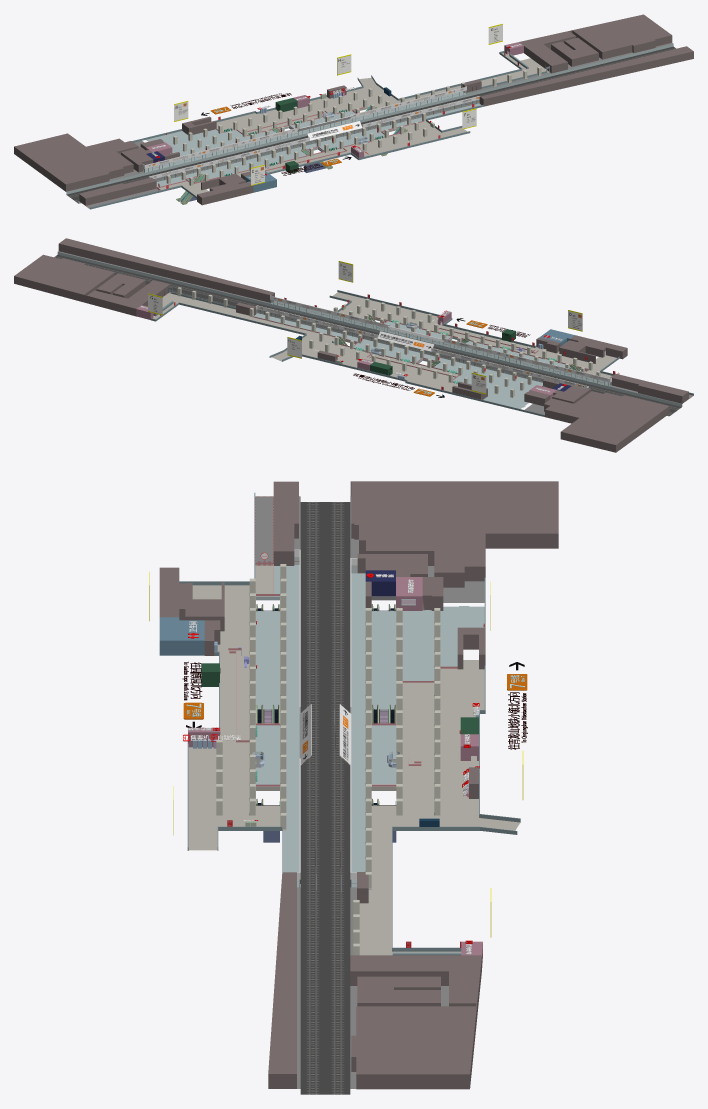
Rendered from psop-whgj-syl-b1.6faba97.glb.
3 renders of one model, top to bottom at view 1: azimuth 30°, elevation 25°; view 2: azimuth 150°, elevation 25°; view 3: azimuth 270°, elevation 25°, orthographic. The views are drawn at different scales.
Parts seen in each view (by area): view 1: Object092, road-b1-1, road-b1-2, zhuzi107, Object126, Box519, Object130, Object188, Object127, A出口001, road-b1-3, Object133 (+3 smaller); view 2: Object092, road-b1-1, road-b1-2, zhuzi107, Object126, Object130, Box519, Object188, Object127, A出口001, Object133, road-b1-3 (+1 smaller); view 3: Object092, Object126, road-b1-1, road-b1-2, zhuzi107, road-b1-3, Object188, Object097, Object133, Object130.
Part boxes in pixels (box(x1,y1,x2,y2)): Object092: box(14, 14, 693, 205); road-b1-1: box(157, 52, 548, 196); road-b1-2: box(143, 91, 481, 187); zhuzi107: box(166, 67, 541, 185); Object126: box(66, 46, 675, 203); Box519: box(143, 90, 479, 181); Object130: box(142, 85, 479, 178); Object188: box(90, 51, 549, 209); Object127: box(66, 44, 673, 203); A出口001: box(174, 23, 502, 129); road-b1-3: box(66, 42, 673, 208); Object133: box(297, 115, 362, 140); Object092: box(14, 238, 688, 452); road-b1-1: box(153, 292, 616, 392); road-b1-2: box(254, 301, 611, 408); zhuzi107: box(177, 287, 600, 397); Object126: box(54, 254, 681, 415); Object130: box(256, 295, 609, 388); Box519: box(256, 300, 611, 386); Object188: box(150, 287, 693, 416); Object127: box(57, 252, 682, 416); A出口001: box(148, 261, 486, 394); Object133: box(377, 326, 444, 351); road-b1-3: box(58, 251, 692, 414); Object092: box(159, 481, 558, 1089); Object126: box(300, 502, 350, 1094); road-b1-1: box(188, 565, 519, 955); road-b1-2: box(256, 565, 484, 887); zhuzi107: box(216, 564, 440, 955); road-b1-3: box(255, 496, 484, 1088); Object188: box(179, 492, 520, 955); Object097: box(159, 617, 204, 655); Object133: box(299, 704, 351, 764); Object130: box(297, 550, 357, 879).
Bounding box in the file's own units: 343 × 25.08 × 100.
52 materials, 10 textured.
